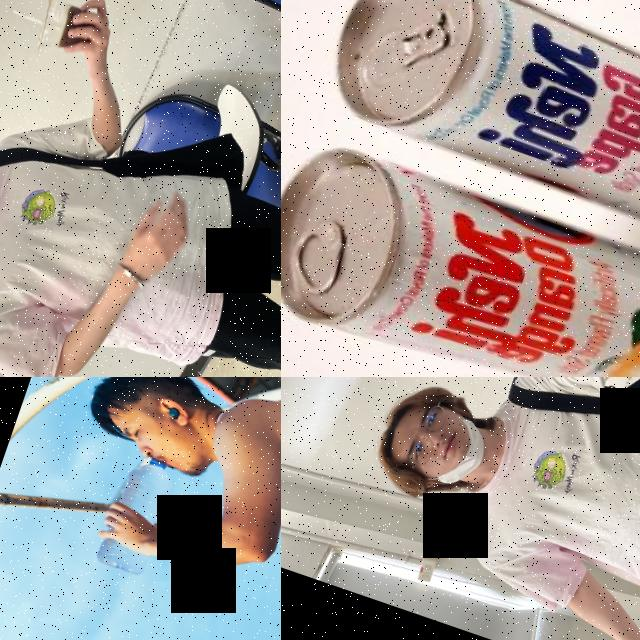bottle: (92, 448, 184, 578)
can: (311, 0, 640, 280), (281, 126, 640, 377)
cup: (31, 0, 105, 64)
